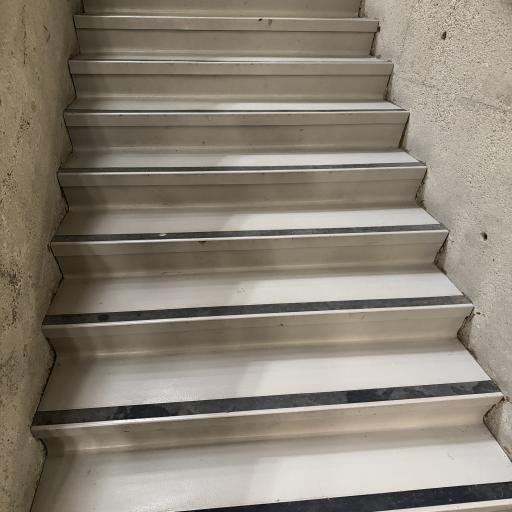Stairs: (32, 0, 512, 512)
